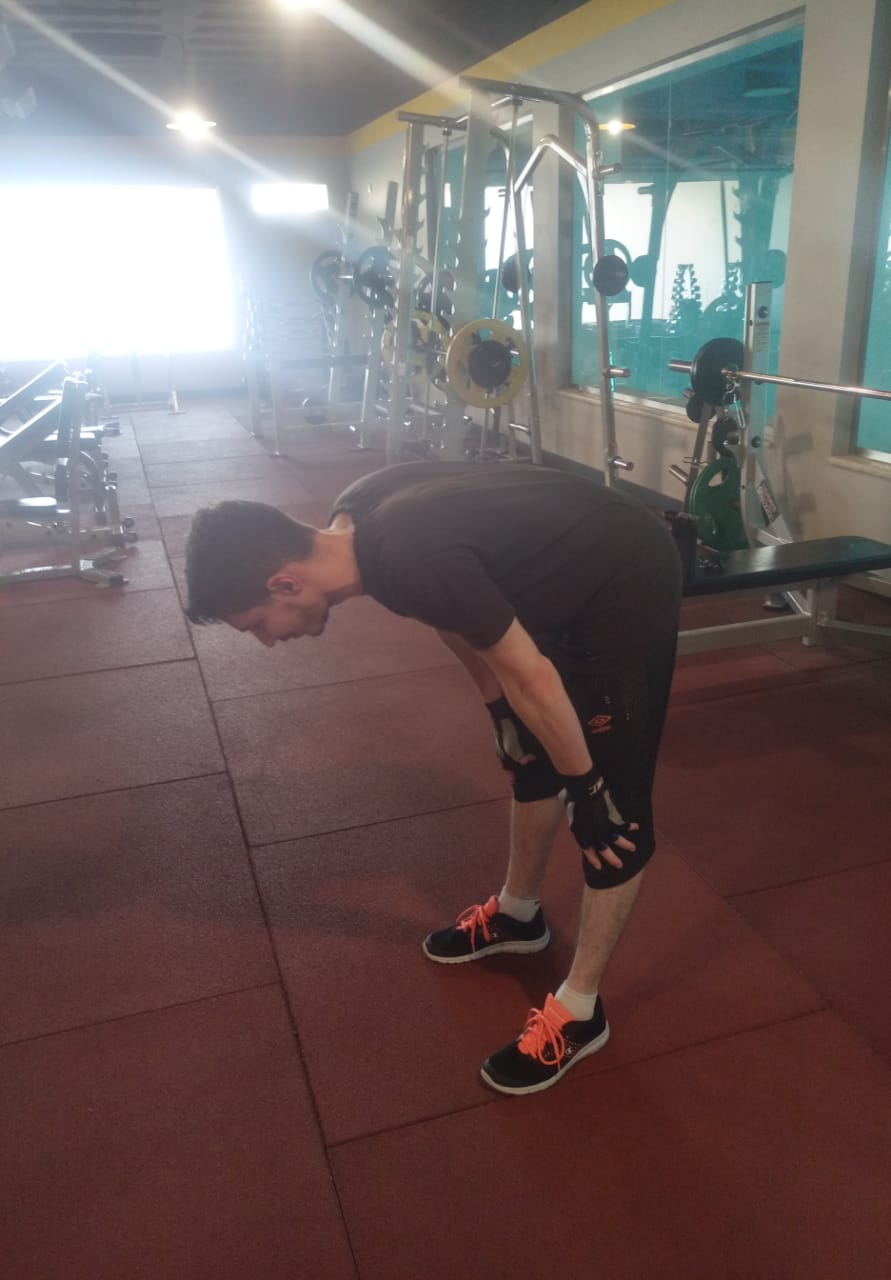ruku: (122, 457, 792, 1134)
